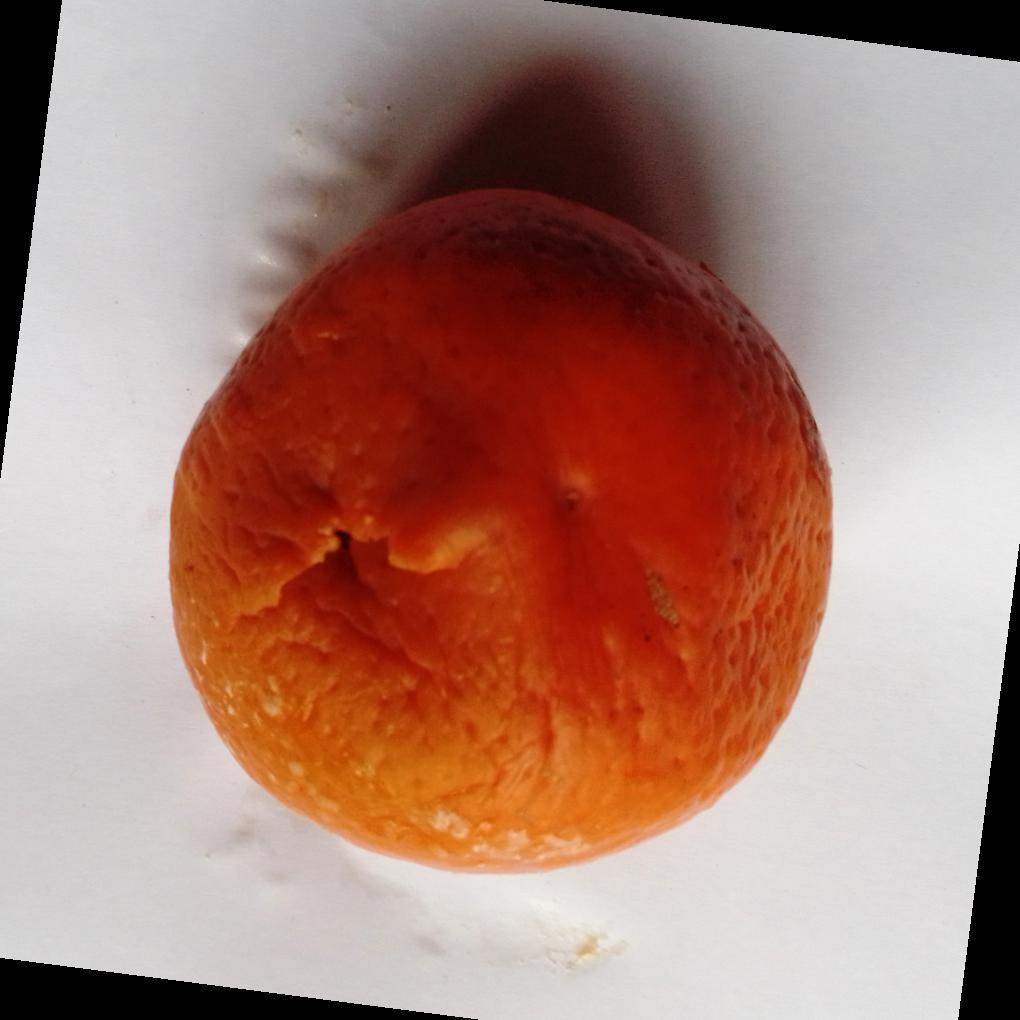FreshOrange: (167, 188, 836, 879)
